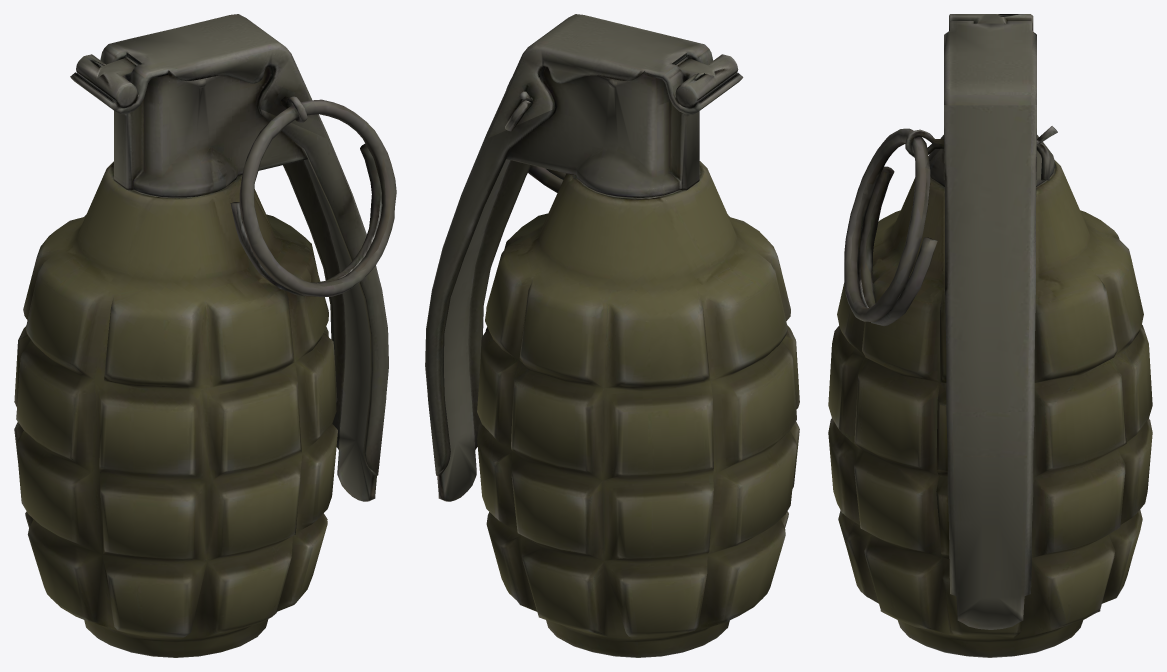
File: grenade.glb
3 views of the same model, side by side, from view 1: azimuth 30°, elevation 25°; view 2: azimuth 150°, elevation 25°; view 3: azimuth 270°, elevation 25° (orthographic).
Parts seen in each view (by area): view 1: tripo_part_0; view 2: tripo_part_0; view 3: tripo_part_0.
Part boxes in pixels (x1=…): tripo_part_0: x1=14, y1=14, x2=396, y2=657; tripo_part_0: x1=425, y1=14, x2=799, y2=657; tripo_part_0: x1=828, y1=14, x2=1152, y2=657.
Size of the model in its own units: 0.6125 by 1 by 0.5108.
1 material, 1 textured.
